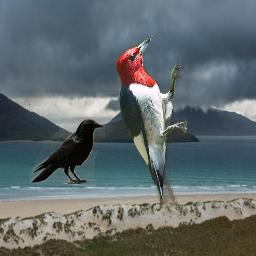Crow: (29, 117, 105, 186)
Woodpecker: (115, 35, 187, 205)
